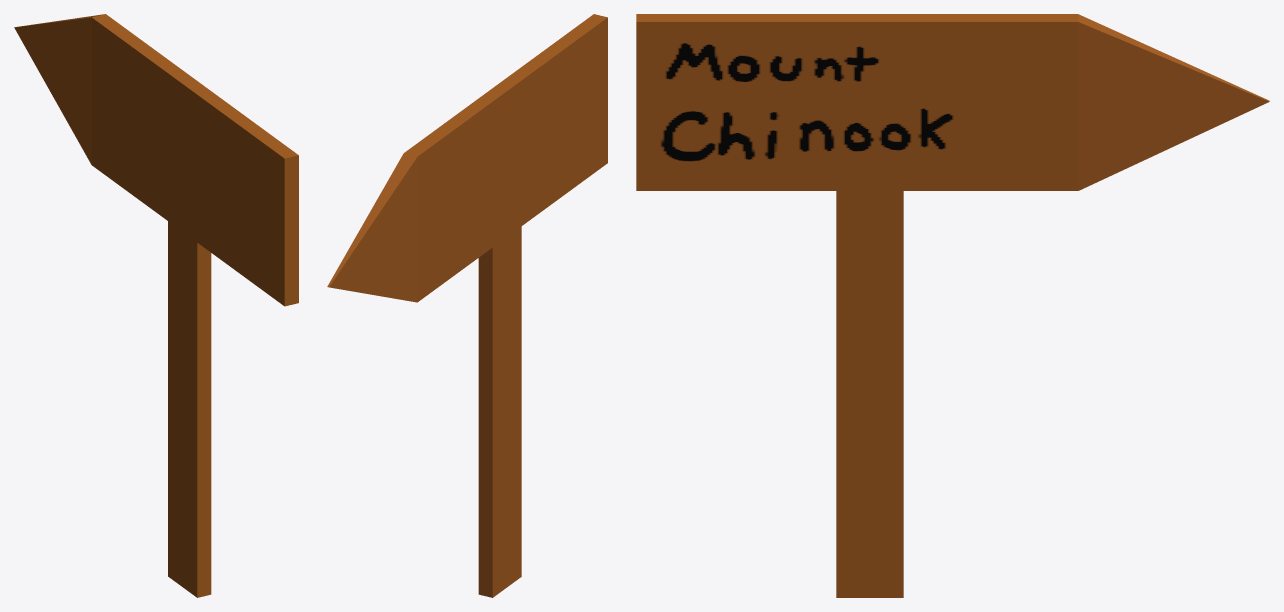
The model's file is Mount Chinook Sign.glb.
3 renders of one model, left to right at view 1: azimuth 30°, elevation 25°; view 2: azimuth 150°, elevation 25°; view 3: azimuth 270°, elevation 25°, orthographic. The views are drawn at different scales.
Visible parts, largest first — view 1: Cube; view 2: Cube; view 3: Cube.
Boxes of the visible parts, x1,y1,x2,y2 form: Cube: [14, 14, 298, 597]; Cube: [327, 14, 607, 597]; Cube: [636, 14, 1269, 597].
Size of the model in its own units: 0.0997 by 3.4 by 3.39.
2 materials, 2 textured.
